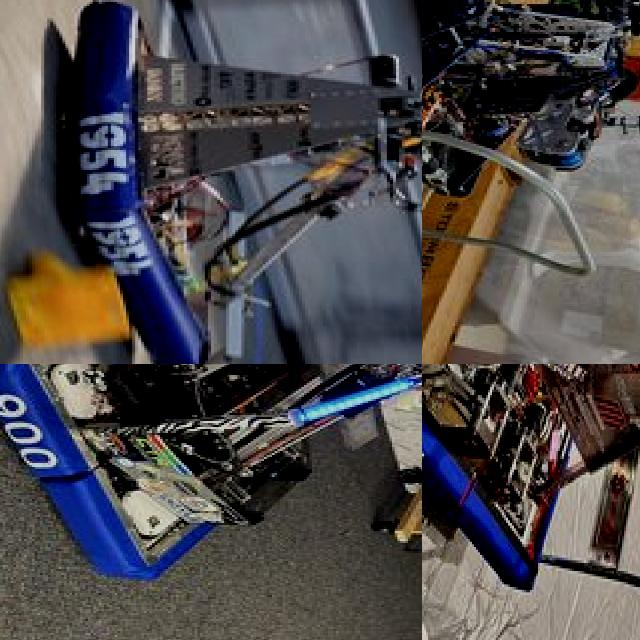FRC-Robots: (42, 0, 422, 364), (0, 364, 422, 615), (422, 364, 640, 575), (422, 0, 640, 204)
